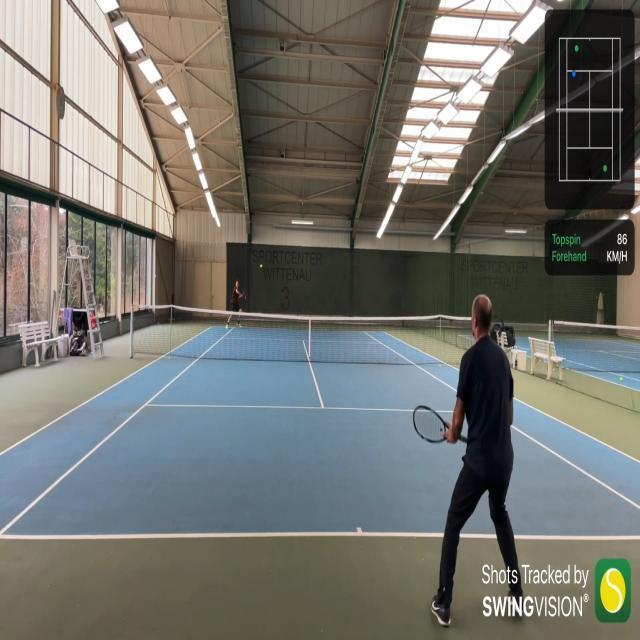court: (0, 326, 640, 542)
net: (130, 304, 490, 364)
player: (413, 294, 525, 626)
